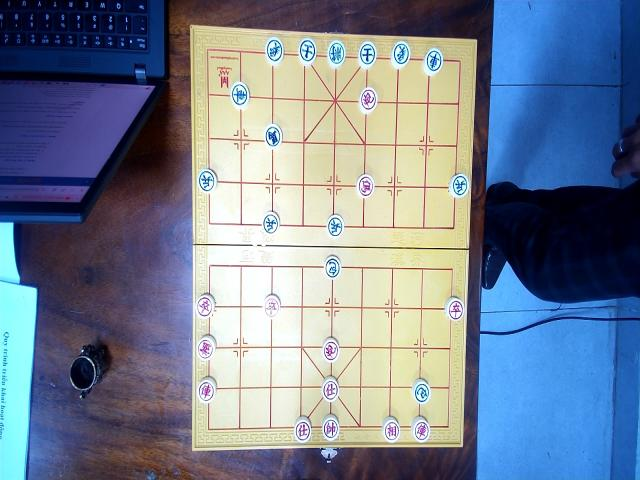piece: (422, 47, 443, 76), (326, 39, 346, 68), (230, 81, 250, 110), (448, 172, 469, 199), (265, 37, 285, 65), (390, 42, 410, 70), (196, 377, 216, 404), (196, 335, 216, 362), (411, 378, 431, 405), (358, 87, 378, 114), (444, 296, 464, 322), (355, 173, 375, 199), (293, 416, 312, 443), (381, 416, 400, 443), (411, 416, 430, 443), (298, 38, 316, 66), (197, 168, 217, 193), (322, 414, 340, 441), (322, 337, 340, 364), (264, 123, 282, 150), (321, 376, 339, 402), (196, 294, 214, 320), (358, 41, 376, 67), (326, 213, 344, 238), (263, 294, 281, 319), (262, 212, 280, 236), (324, 254, 342, 278)
